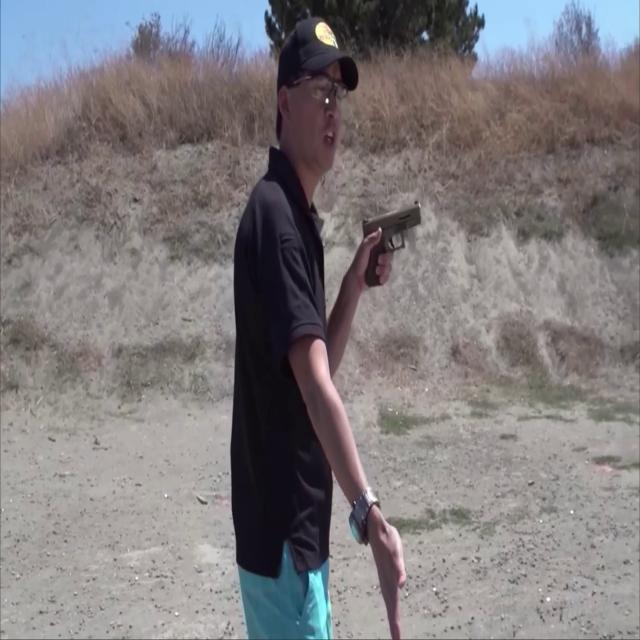Gun: (362, 200, 422, 288)
